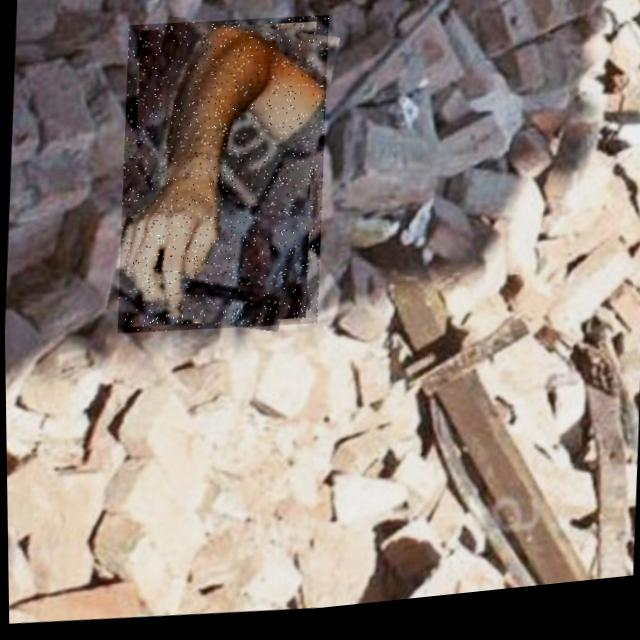Person in Rubble: (112, 12, 332, 346)
